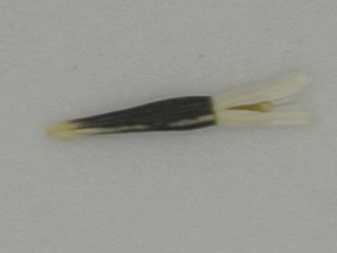เมล็ดดีติดกัน: (45, 70, 314, 142)
